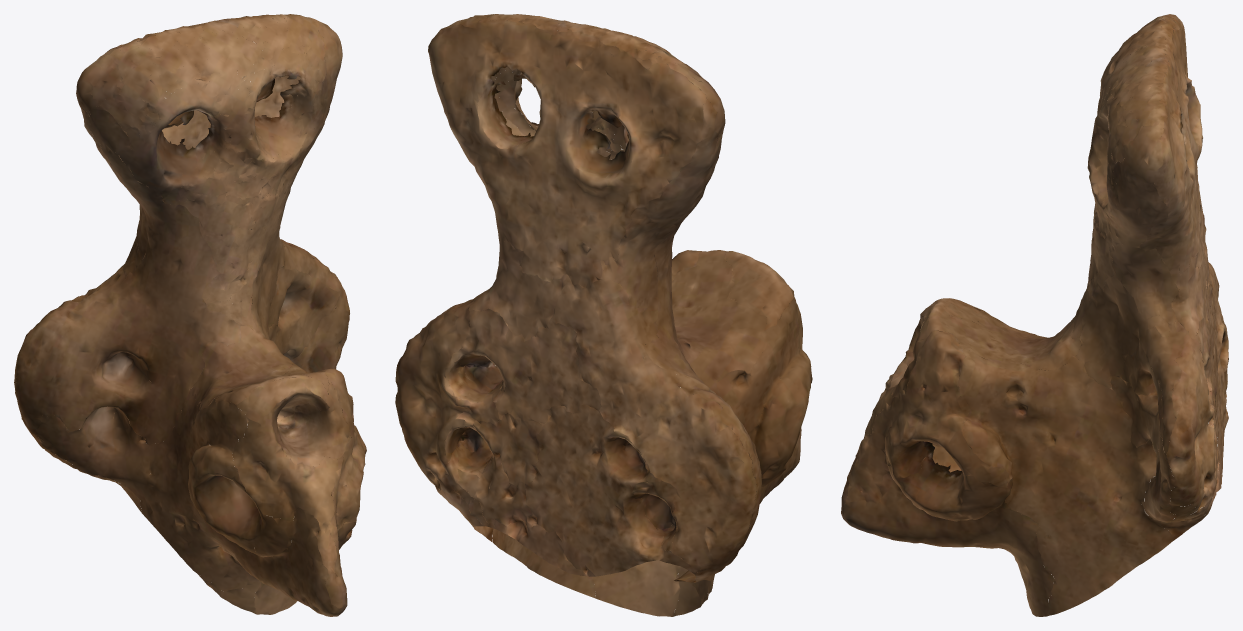
The model's file is weibliches_idol_mit_violinformigem_kopfputz-detail1.gltf.
The picture shows the model from 3 angles, left to right: view 1: azimuth 30°, elevation 25°; view 2: azimuth 150°, elevation 25°; view 3: azimuth 270°, elevation 25°; orthographic projection. The views are drawn at different scales.
Visible parts, largest first — view 1: Sculpture; view 2: Sculpture; view 3: Sculpture.
Part boxes in pixels (x1,y1,x2,y2): Sculpture: [14, 14, 366, 616]; Sculpture: [395, 14, 812, 616]; Sculpture: [841, 14, 1228, 616].
Bounding box in the file's own units: 0.3912 × 0.6419 × 0.4046.
1 material, 1 textured.
